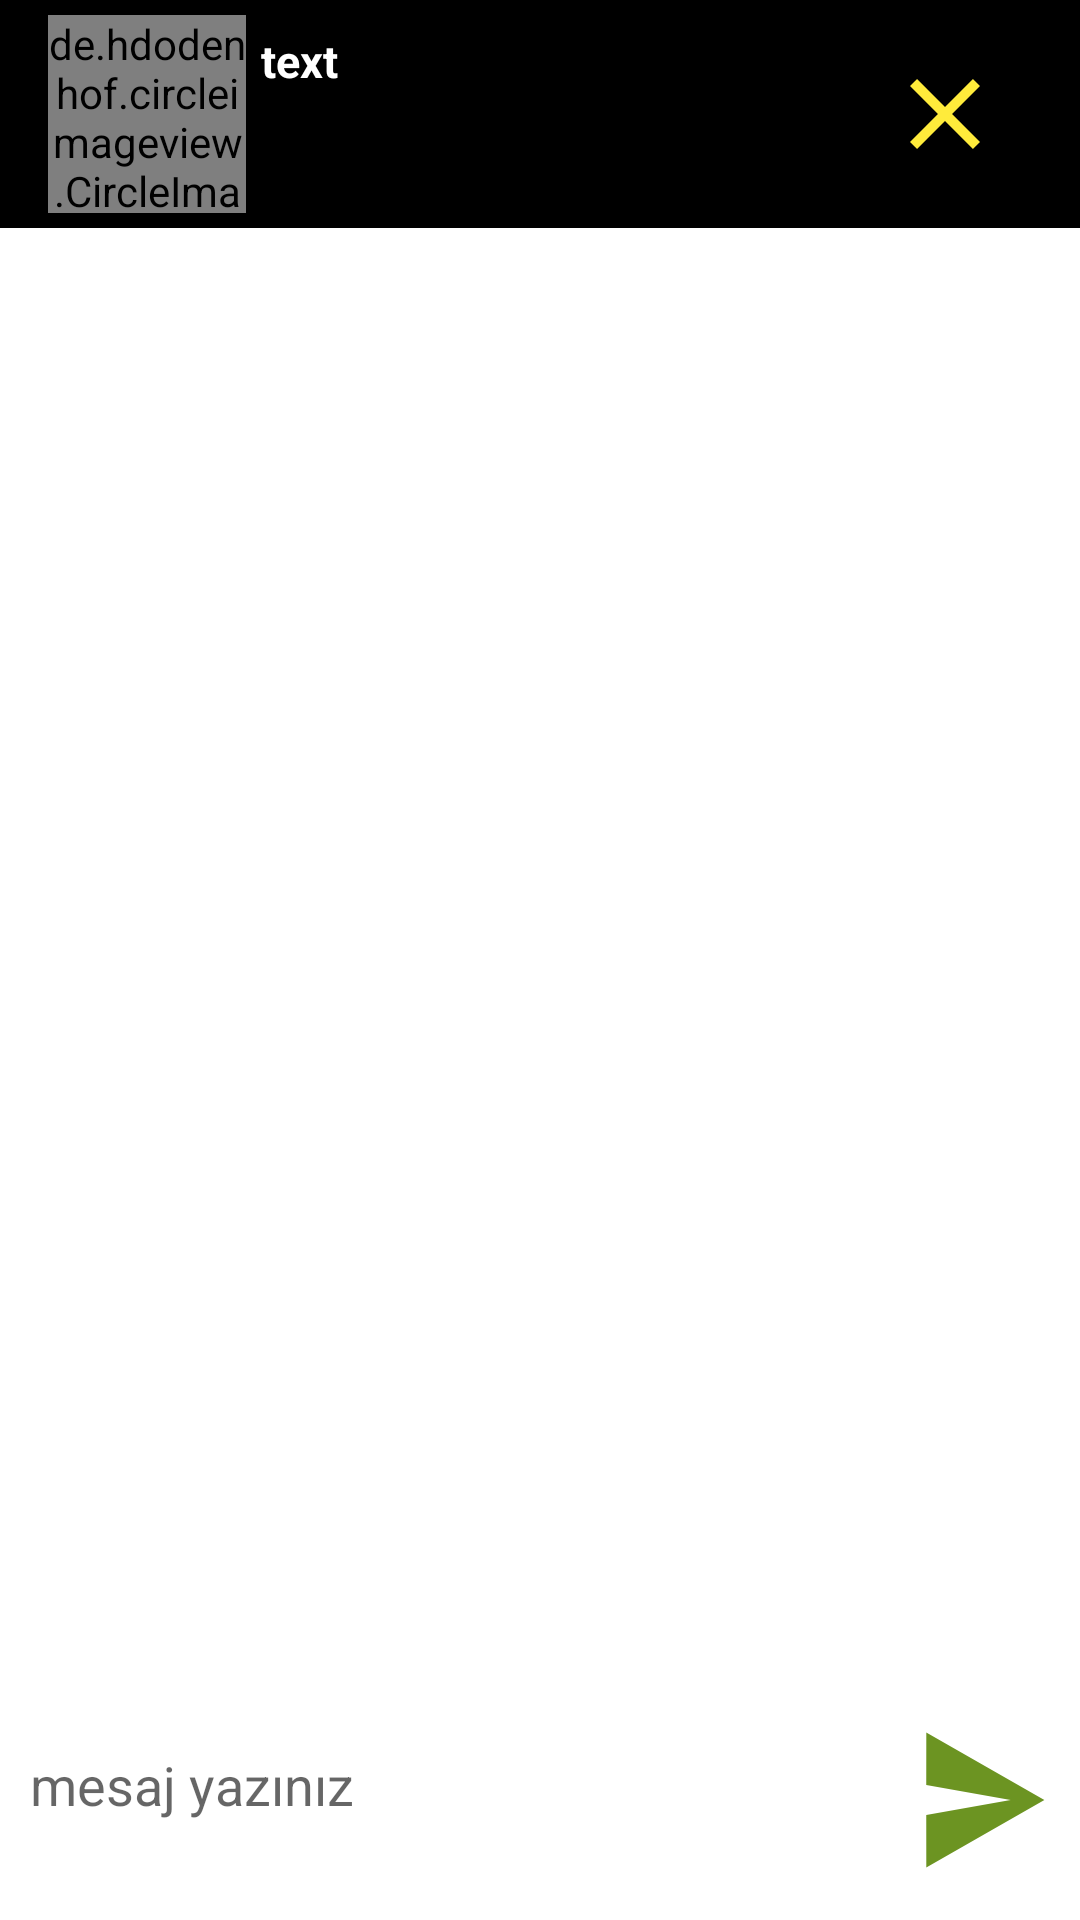

Named icons in this screenshot (1080 × 1920) and their bounding boxes, box=[x1, y1, x2, y2]:
close: box=[910, 79, 980, 149]
send: box=[926, 1732, 1044, 1868]
